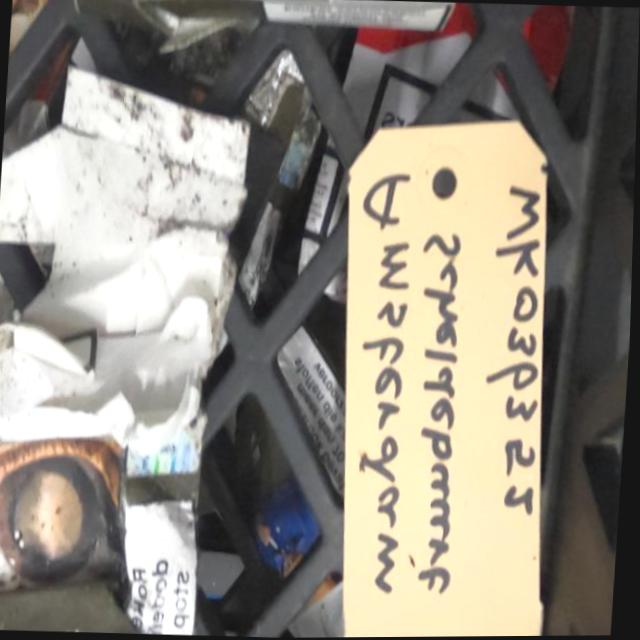Paper: (0, 411, 207, 636), (67, 0, 453, 36)
